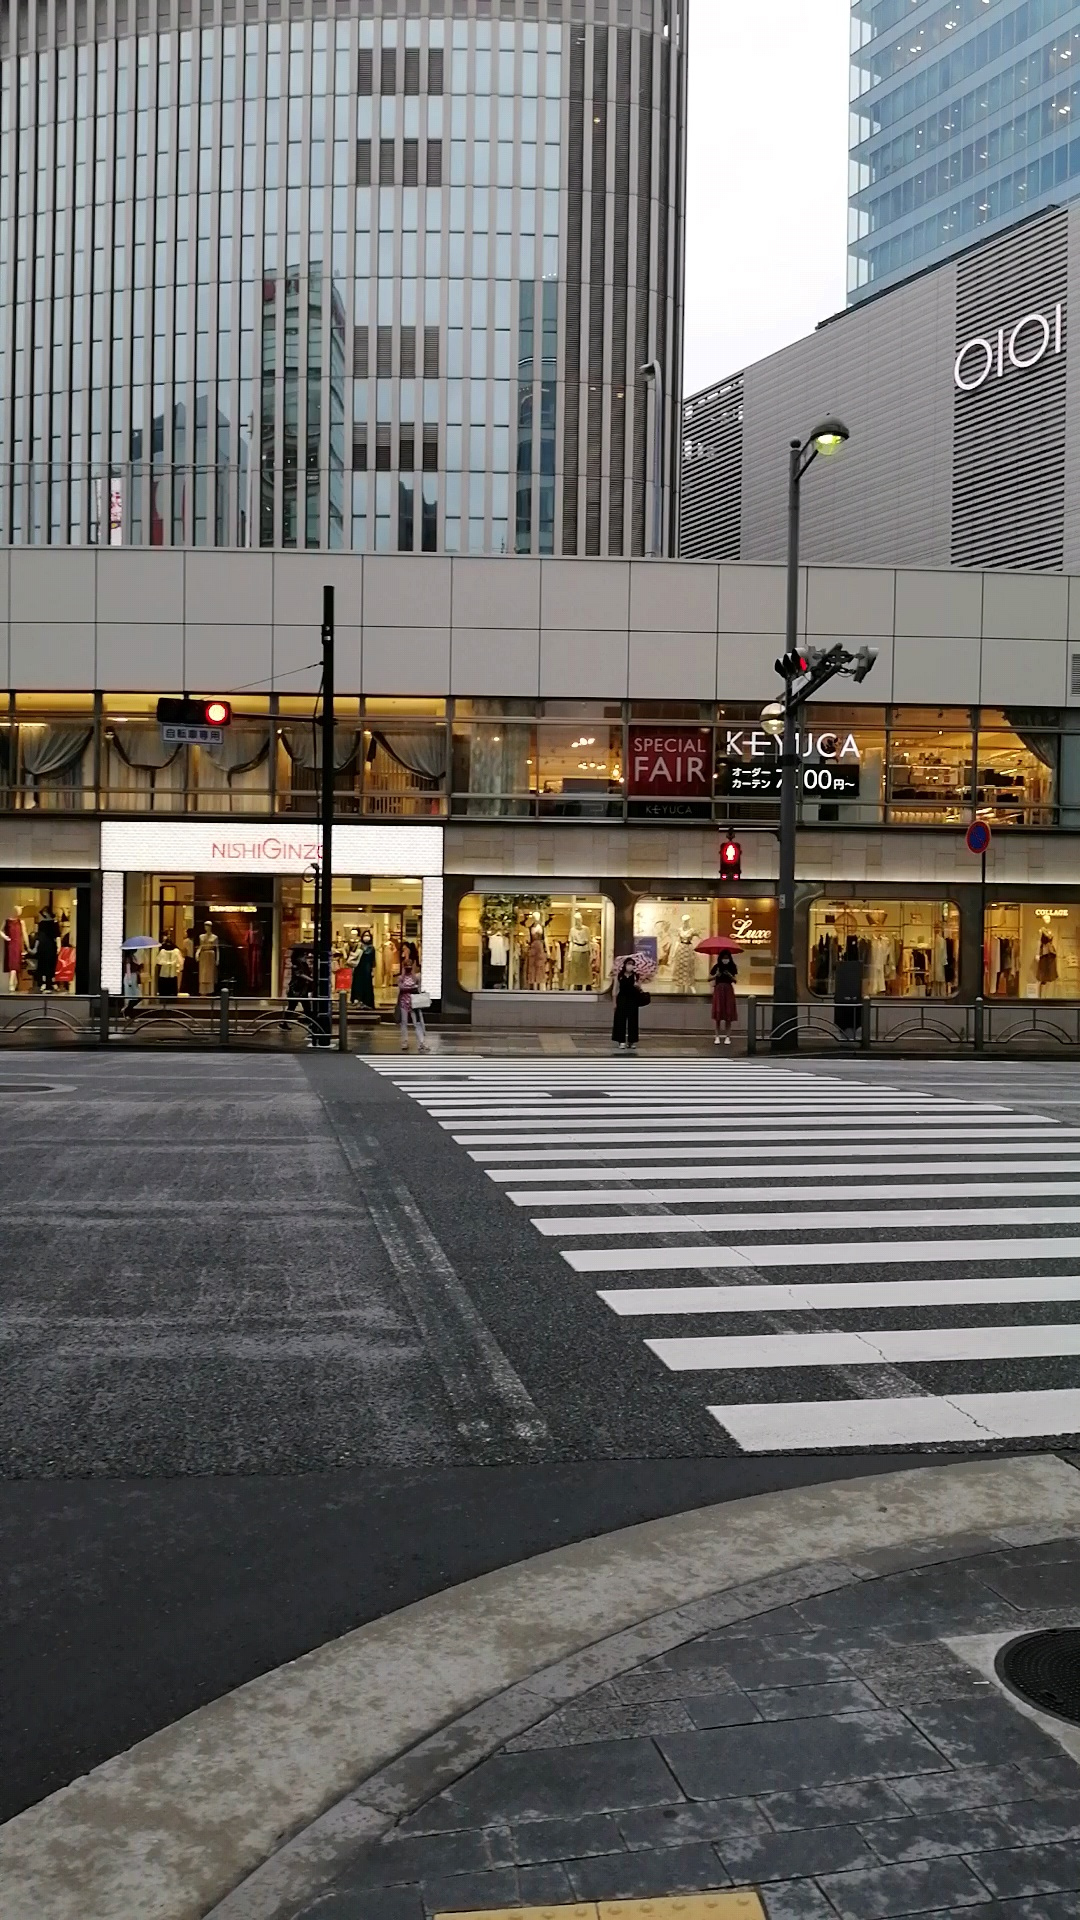red: (717, 840, 741, 887)
